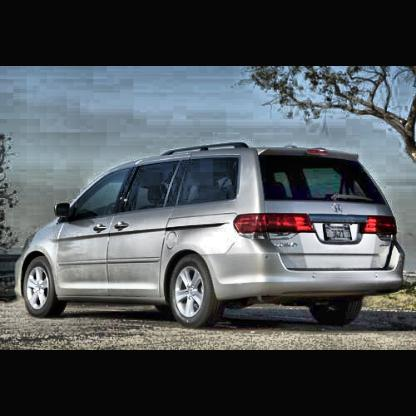Honda Odyssey Minivan 2007: (12, 141, 408, 332)
